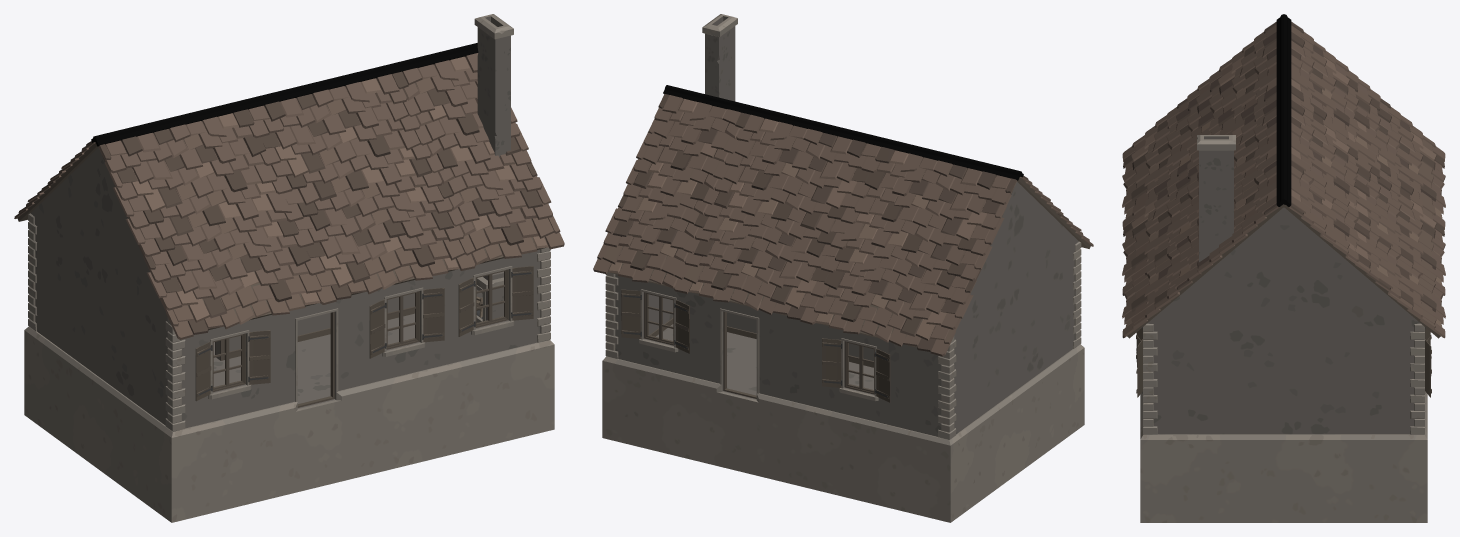
File: house_1.glb
3 views of the same model, side by side, from view 1: azimuth 30°, elevation 25°; view 2: azimuth 150°, elevation 25°; view 3: azimuth 270°, elevation 25° (orthographic). The views are drawn at different scales.
Visible parts, largest first — view 1: Bld_House_01_LOD1; view 2: Bld_House_01_LOD1; view 3: Bld_House_01_LOD1.
Part boxes in pixels (left/top/right/bottom): Bld_House_01_LOD1: left=14, top=14, right=564, bottom=522; Bld_House_01_LOD1: left=593, top=14, right=1093, bottom=522; Bld_House_01_LOD1: left=1122, top=14, right=1445, bottom=522.
Bounding box in the file's own units: 9.23 × 8.64 × 6.76.
3 materials, 3 textured.
